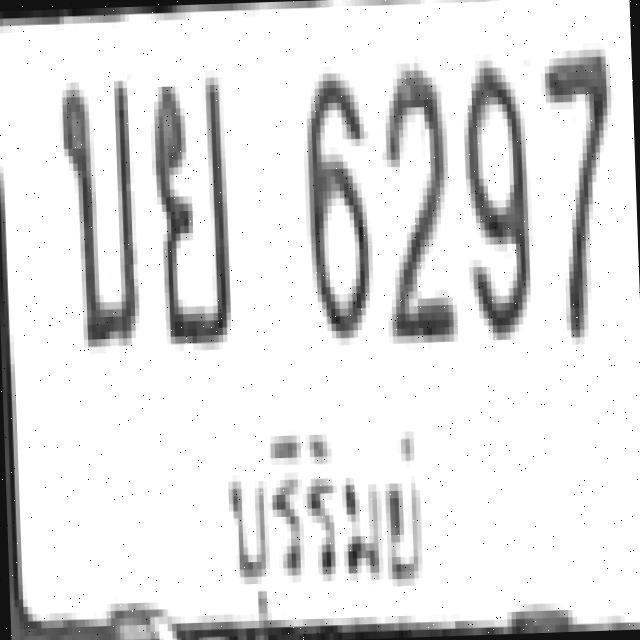2: (376, 58, 452, 340)
35BorBaiMai: (52, 70, 136, 343)
43YorYak: (146, 70, 234, 344)
6: (296, 61, 370, 335)
7: (538, 38, 614, 334)
9: (456, 52, 532, 334)
Buriram: (202, 412, 436, 630)
